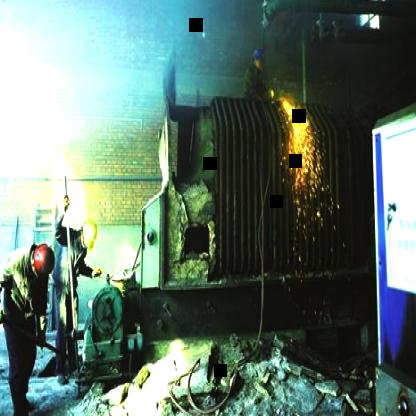helmet: (30, 242, 56, 280), (76, 218, 101, 254), (247, 46, 265, 74)
